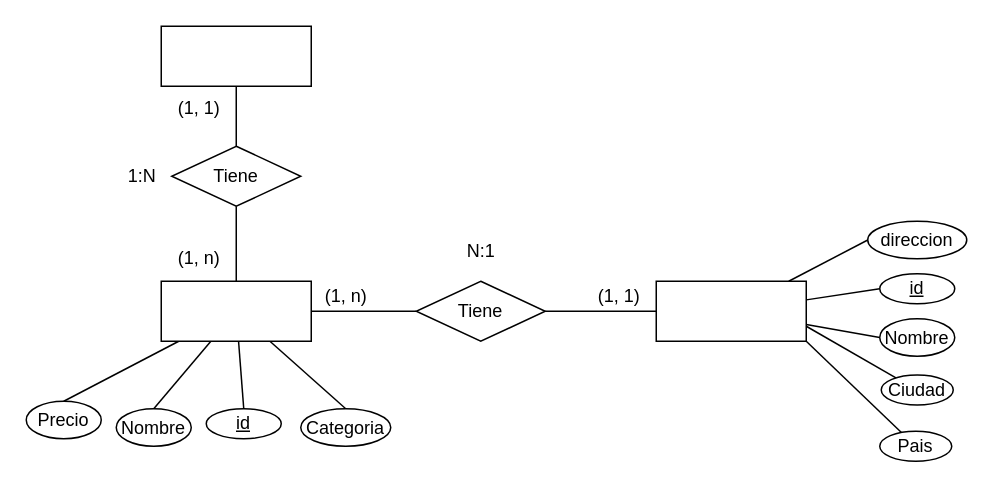
The diagram is 993 pixels wide and 488 high, and some of its shapes have lost their labels. Each missing label, with the centre of its shape:
"Equipo" goes at (x=235, y=55).
"Marca" goes at (x=730, y=310).
"Material" goes at (x=235, y=310).
